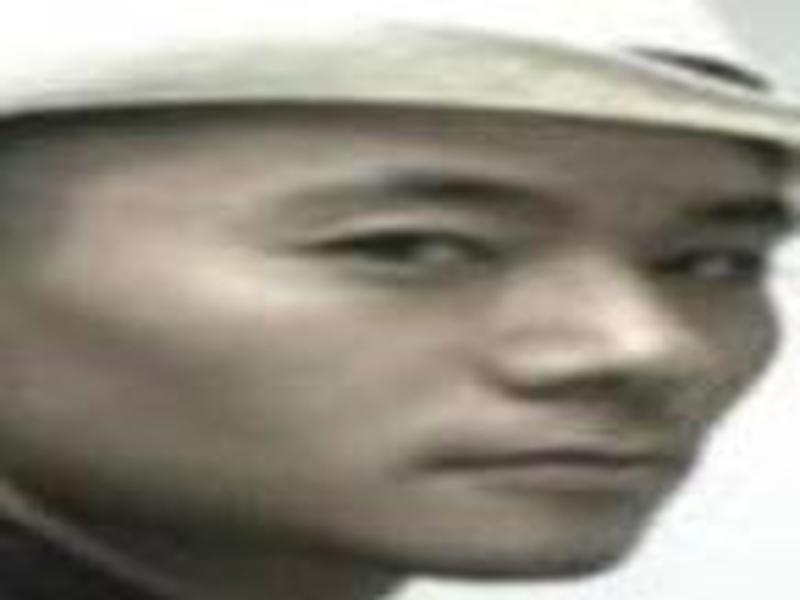without_mask: (38, 102, 787, 587)
